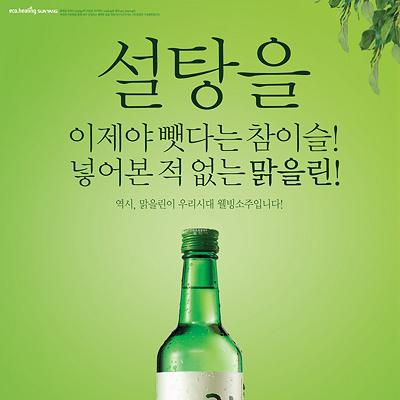soju: (153, 227, 250, 400)
